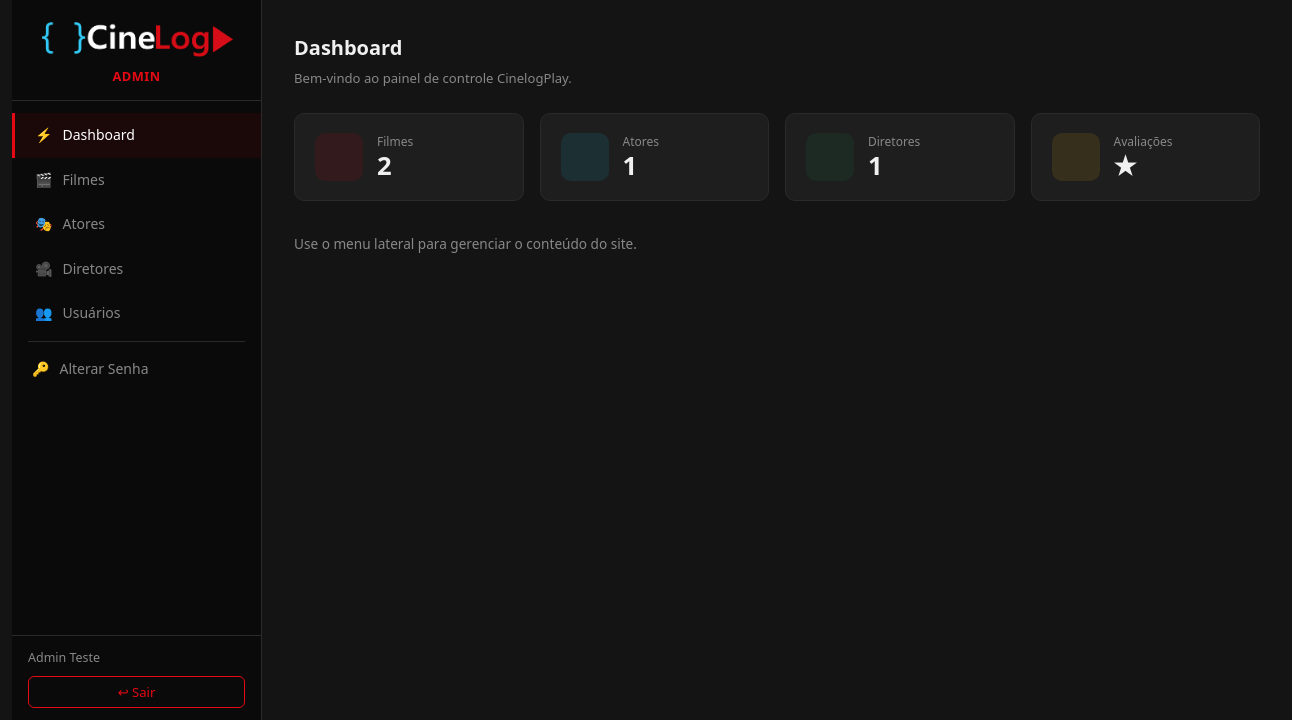
Scenario: Admin React — Navegação › navega para /admin/atores via sidebar
Click the link "🎭 Atores": (70, 224) [35,214,105,233]
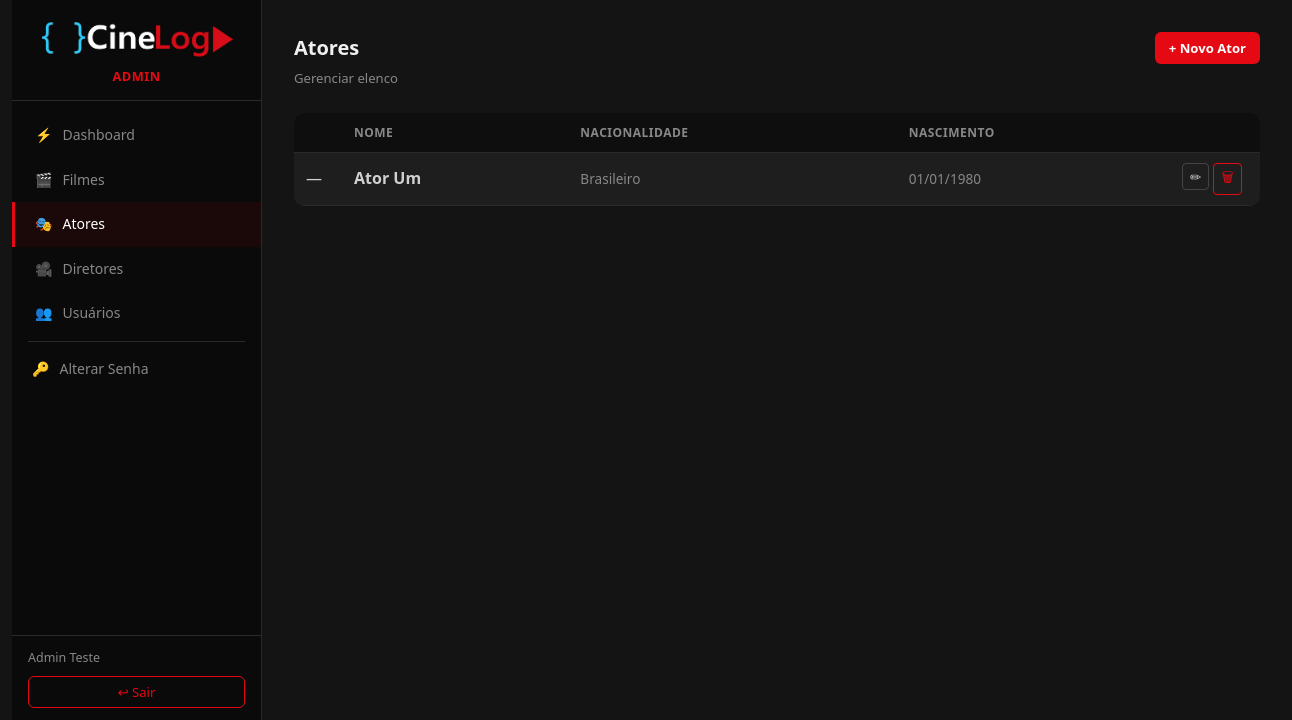
Expected: the heading "Atores" is shown, [294,34,359,61]
